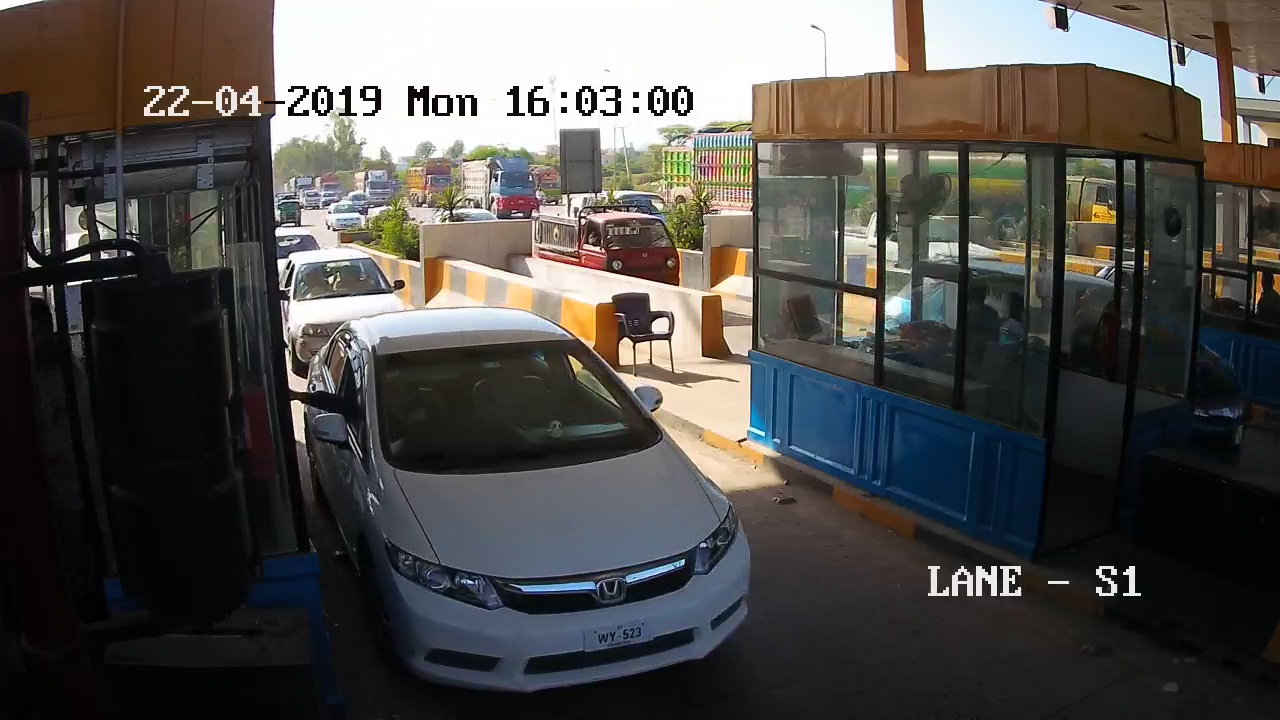car: (301, 333, 795, 689)
